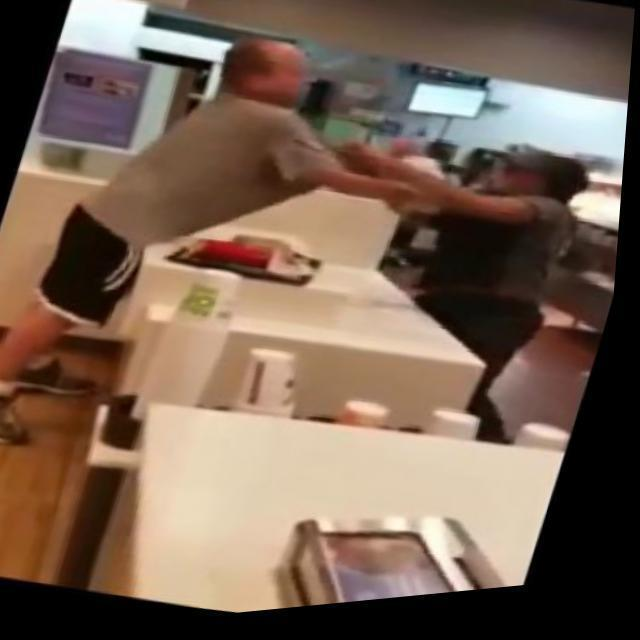fight: (84, 0, 626, 361)
